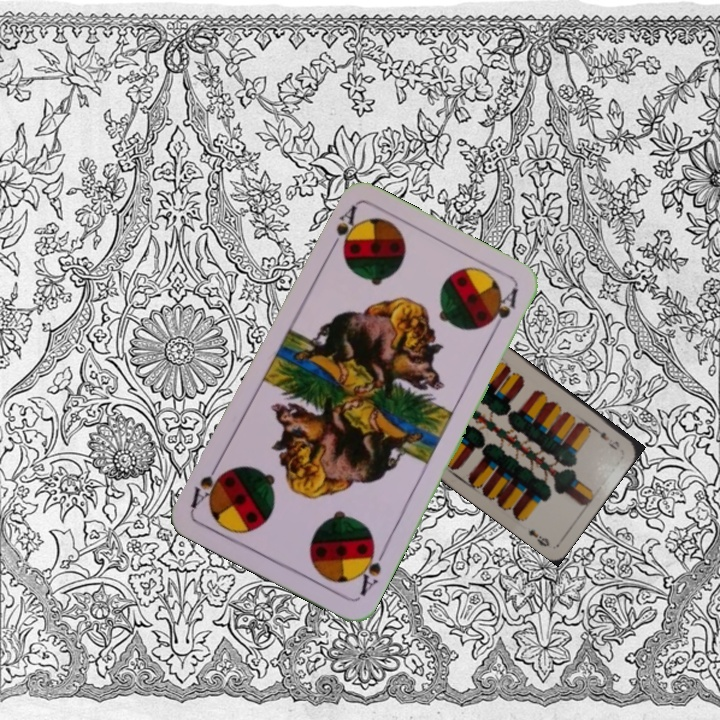E9: (589, 423, 622, 453)
SA: (351, 540, 389, 599), (324, 202, 360, 257)
